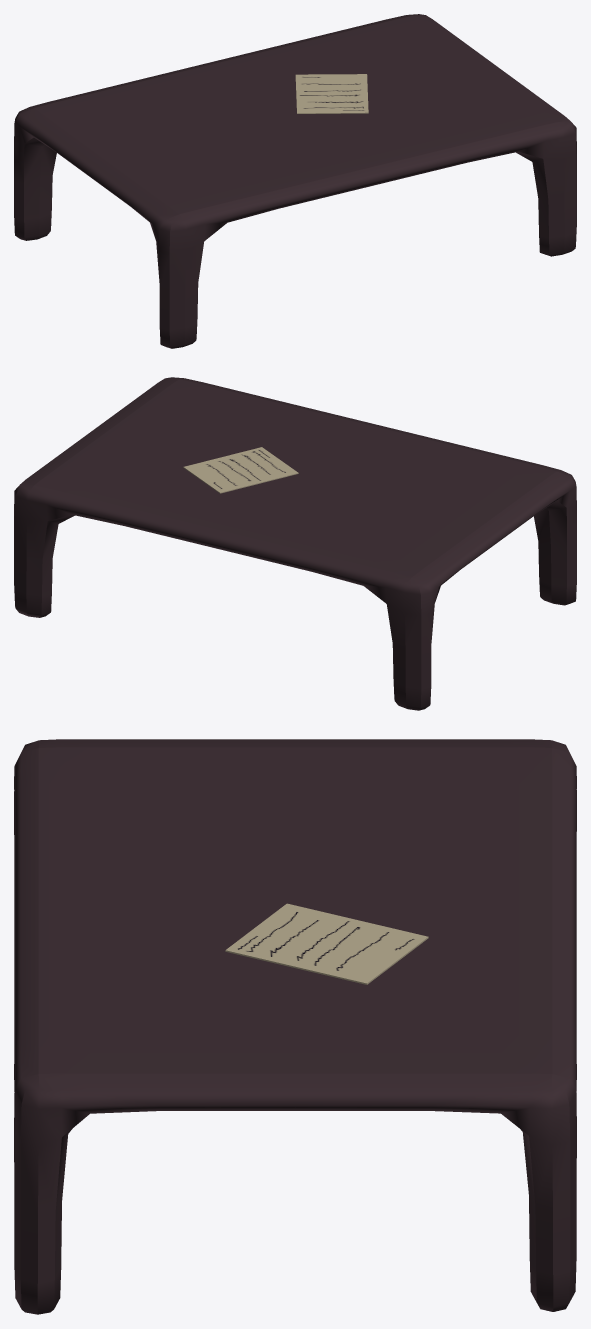
Rendered from tafel.fbx.
3 renders of one model, top to bottom at view 1: azimuth 30°, elevation 25°; view 2: azimuth 150°, elevation 25°; view 3: azimuth 270°, elevation 25°, orthographic. The views are drawn at different scales.
Visible parts, largest first — view 1: Cube.028, Plane.010; view 2: Cube.028, Plane.010; view 3: Cube.028, Plane.010.
Part boxes in pixels (x1,y1,x2,y2): Cube.028: [14, 14, 576, 348]; Plane.010: [295, 74, 368, 113]; Cube.028: [14, 377, 576, 710]; Plane.010: [183, 447, 298, 493]; Cube.028: [14, 739, 576, 1314]; Plane.010: [225, 903, 428, 984].
Size of the model in its own units: 301 by 92.15 by 199.
2 materials, 1 textured.
